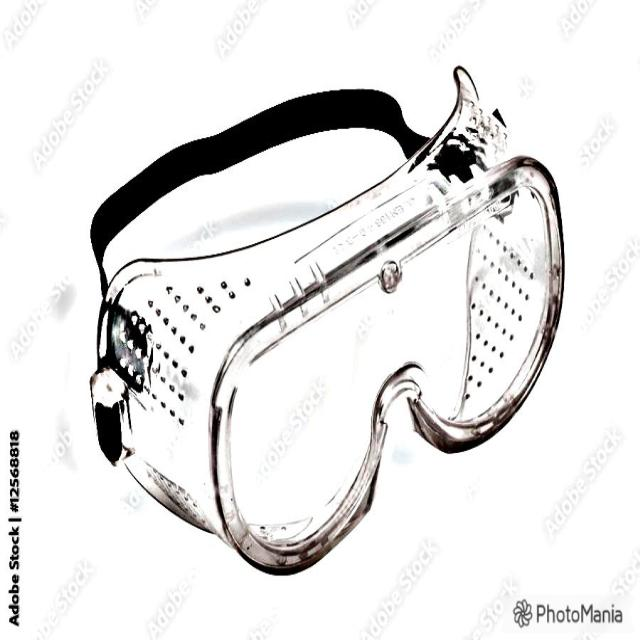Goggles: (71, 64, 580, 577)
